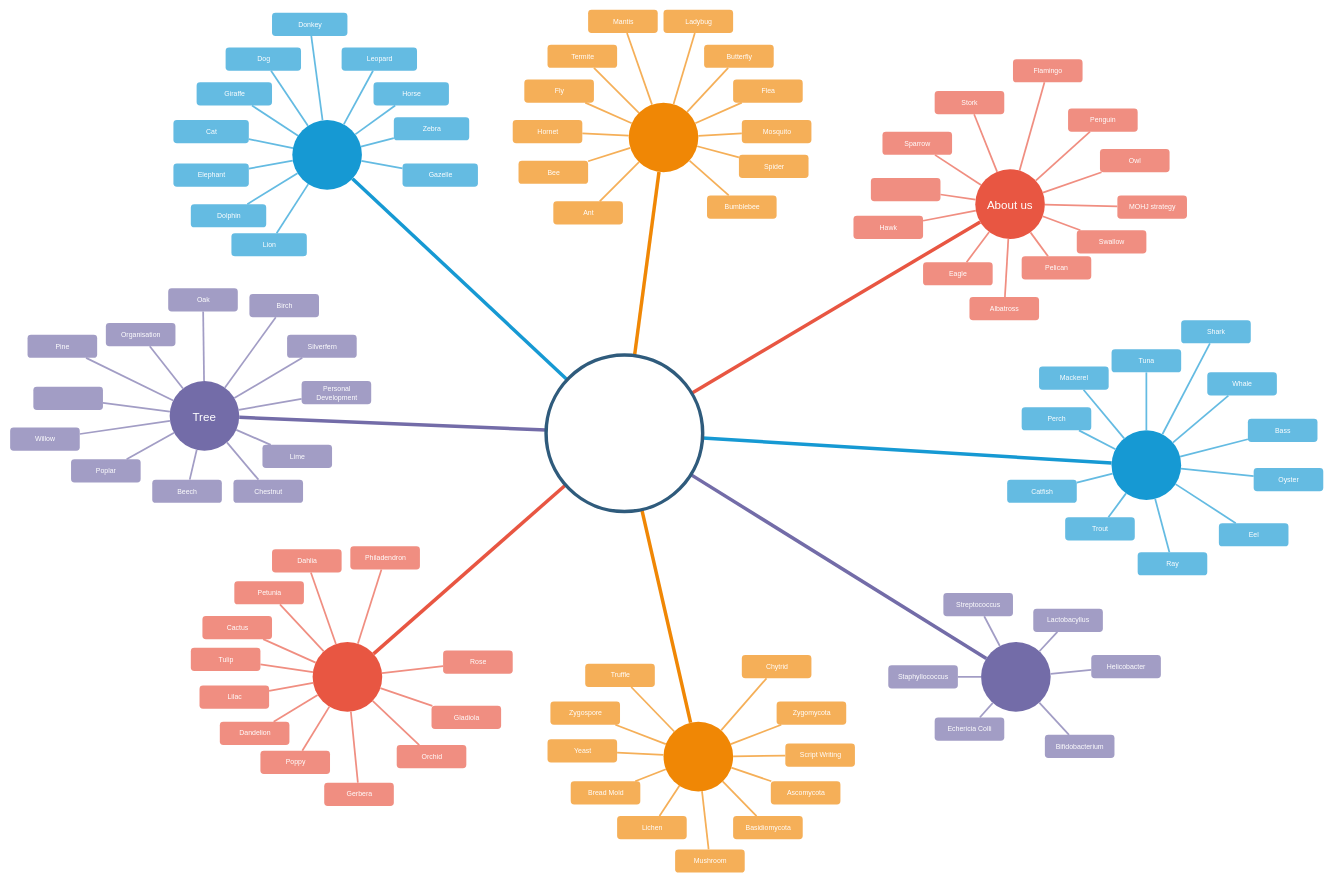
Some shapes in this 1333 by 883 pixel diagram are drawn without their labels. The centre of each missing label's shape, as x and y in pixels:
Acacia: pixel 68 398
Bacteria: pixel 1015 676
Falcon: pixel 905 189
Fish: pixel 1146 465
Flower: pixel 347 676
Fungi: pixel 698 756
Insect: pixel 663 137
Mammal: pixel 327 154
ministry of health Jordan: pixel 624 433
